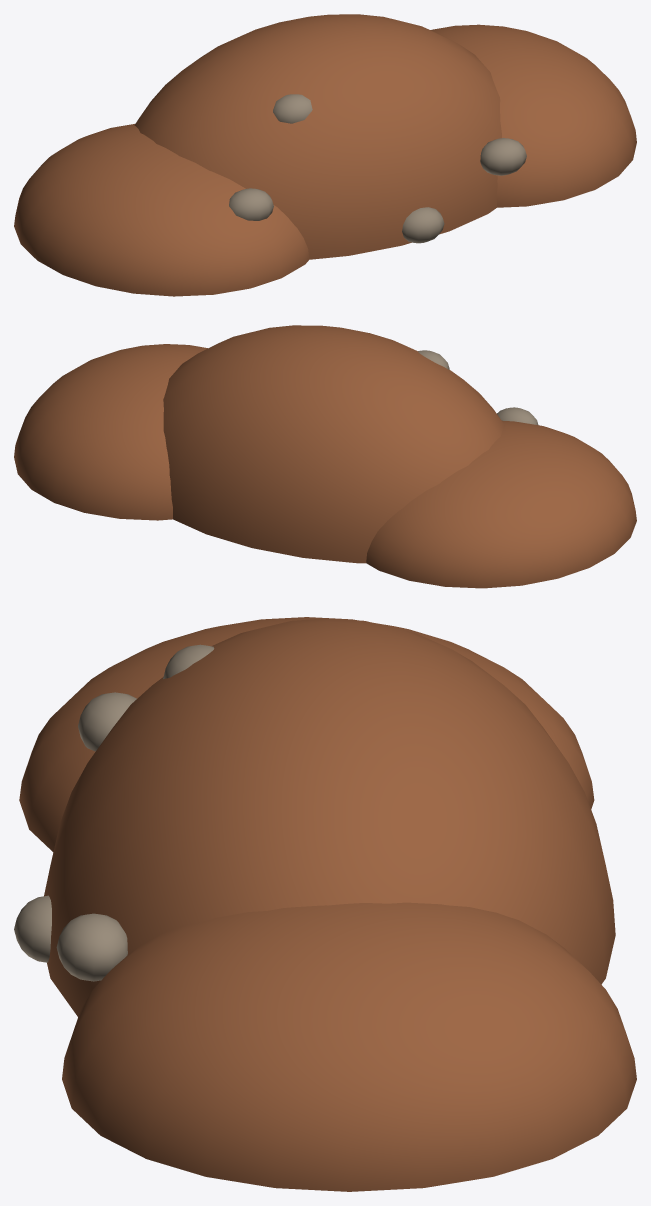
Rendered from dirt-mound.glb.
3 views of the same model, one above another, from view 1: azimuth 30°, elevation 25°; view 2: azimuth 150°, elevation 25°; view 3: azimuth 270°, elevation 25° (orthographic). The views are drawn at different scales.
Visible parts, largest first — view 1: Dirt_hill_0, Dirt_hill_1, Dirt_hill_2, Dirt_pebble_1, Dirt_pebble_2, Dirt_pebble_0, Dirt_pebble_3; view 2: Dirt_hill_0, Dirt_hill_1, Dirt_hill_2, Dirt_pebble_0; view 3: Dirt_hill_0, Dirt_hill_2, Dirt_hill_1, Dirt_pebble_1, Dirt_pebble_2, Dirt_pebble_0, Dirt_pebble_3.
Boxes of the visible parts, x1=… form: Dirt_hill_0: x1=134, y1=14, x2=501, y2=259; Dirt_hill_1: x1=14, y1=124, x2=309, y2=296; Dirt_hill_2: x1=430, y1=24, x2=636, y2=207; Dirt_pebble_1: x1=480, y1=138, x2=526, y2=175; Dirt_pebble_2: x1=402, y1=207, x2=444, y2=243; Dirt_pebble_0: x1=229, y1=188, x2=273, y2=220; Dirt_pebble_3: x1=273, y1=94, x2=312, y2=123; Dirt_hill_0: x1=163, y1=325, x2=504, y2=563; Dirt_hill_1: x1=366, y1=420, x2=636, y2=588; Dirt_hill_2: x1=14, y1=344, x2=207, y2=520; Dirt_pebble_0: x1=497, y1=407, x2=538, y2=425; Dirt_hill_0: x1=44, y1=618, x2=615, y2=1016; Dirt_hill_2: x1=62, y1=902, x2=636, y2=1191; Dirt_hill_1: x1=19, y1=617, x2=594, y2=851; Dirt_pebble_1: x1=56, y1=913, x2=127, y2=981; Dirt_pebble_2: x1=14, y1=895, x2=51, y2=962; Dirt_pebble_0: x1=78, y1=692, x2=136, y2=751; Dirt_pebble_3: x1=163, y1=644, x2=214, y2=678.
Bounding box in the file's own units: 1.12 × 0.285 × 0.585.
